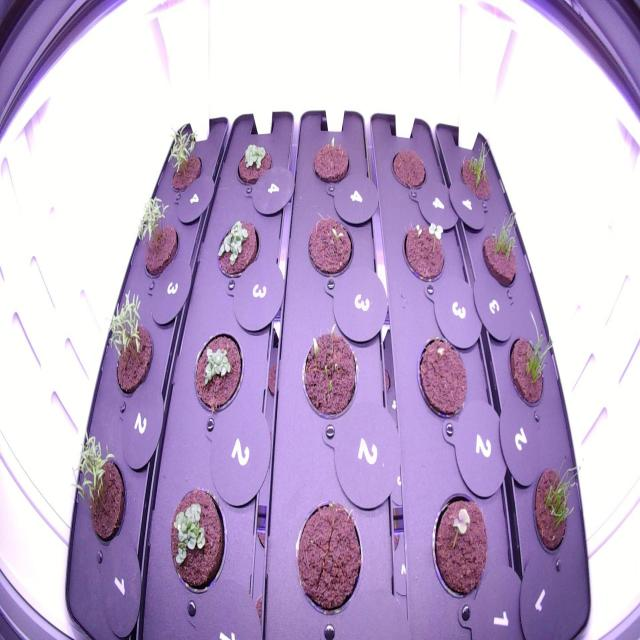germination: (65, 425, 134, 556), (528, 446, 590, 576), (426, 486, 492, 606), (164, 484, 231, 599), (295, 316, 362, 428), (100, 284, 157, 406), (502, 307, 561, 419), (414, 329, 472, 426), (189, 324, 245, 421), (132, 186, 182, 286), (476, 203, 526, 290), (398, 210, 450, 291), (158, 115, 205, 197), (303, 210, 355, 284), (211, 211, 262, 282), (454, 133, 496, 210), (308, 130, 353, 190), (232, 137, 277, 194)
pod: (289, 490, 366, 622), (387, 142, 432, 195)
